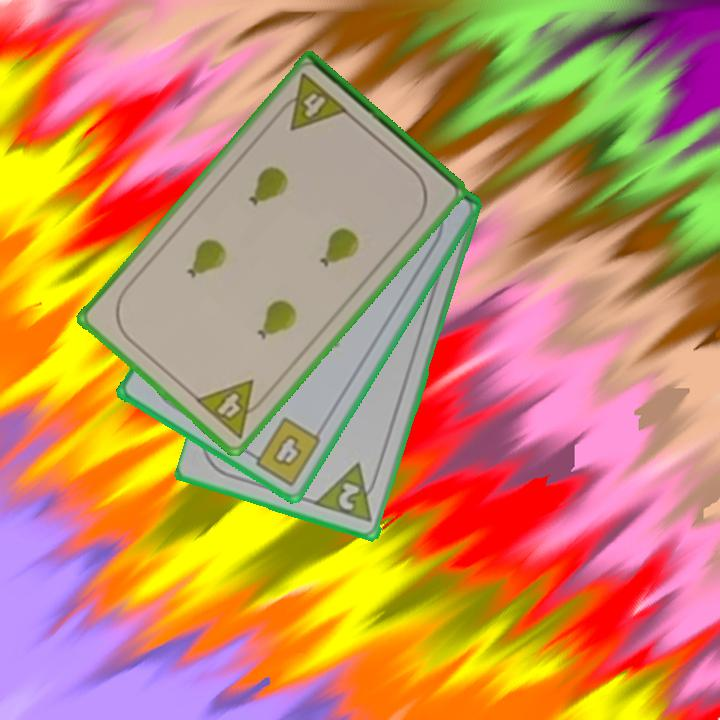2p: (312, 460, 383, 526)
4b: (243, 413, 324, 489)
4p: (191, 376, 272, 442), (273, 69, 351, 134)
